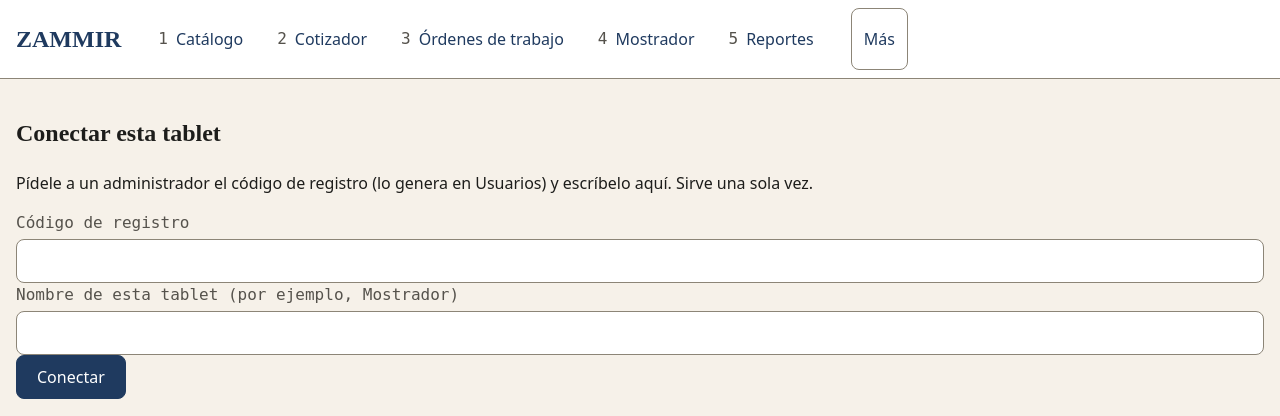
Test: pantalla Conectar esta tablet › conecta la tablet con el código y guarda sus credenciales
Type "abcd-2345" into the field labelled "Código de registro".
click(640, 261); type("abcd-2345")  # box top-left (16, 239), bottom-right (1264, 283)
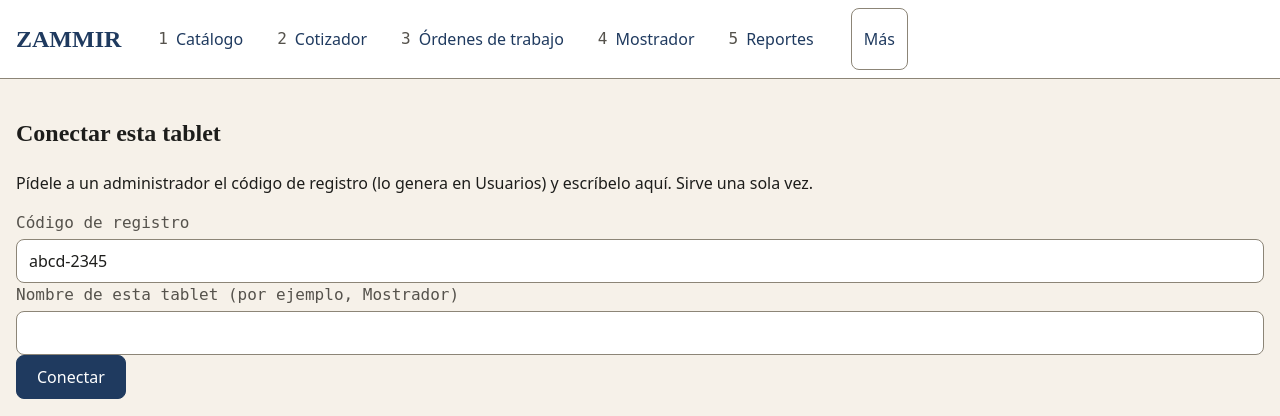
Type "Mostrador" into the field labelled "Nombre de esta tablet (por ejemplo, Mostrador)".
click(640, 333); type("Mostrador")  # box top-left (16, 311), bottom-right (1264, 355)
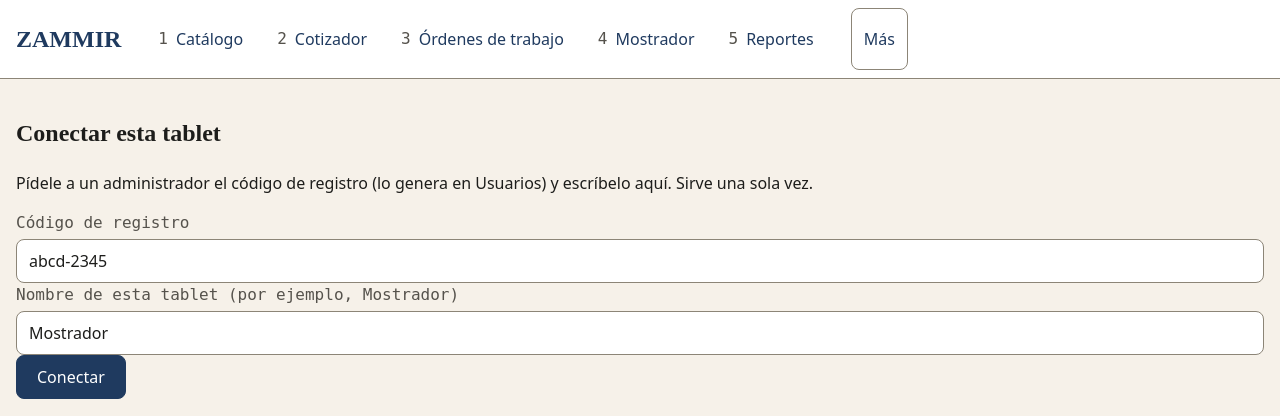
Click the button "Conectar".
click(71, 377)  # box top-left (16, 355), bottom-right (126, 399)
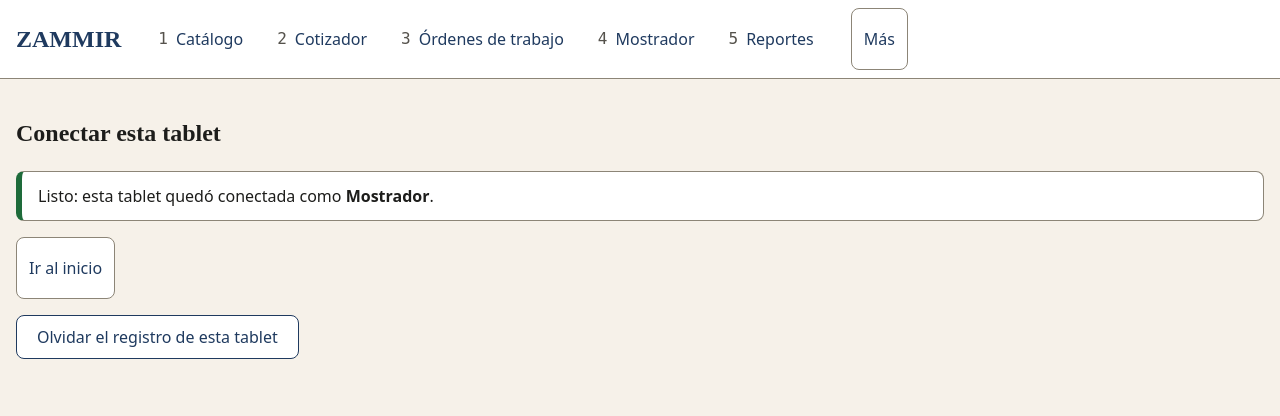
Expected: the link "4 Mostrador" is shown, top-left (598, 28), bottom-right (694, 50)
Now the text "Listo: esta tablet quedó conectada como Mostrador." is shown, box top-left (38, 185), bottom-right (434, 207)
Now the link "Ir al inicio" is shown, box top-left (16, 237), bottom-right (115, 299)
